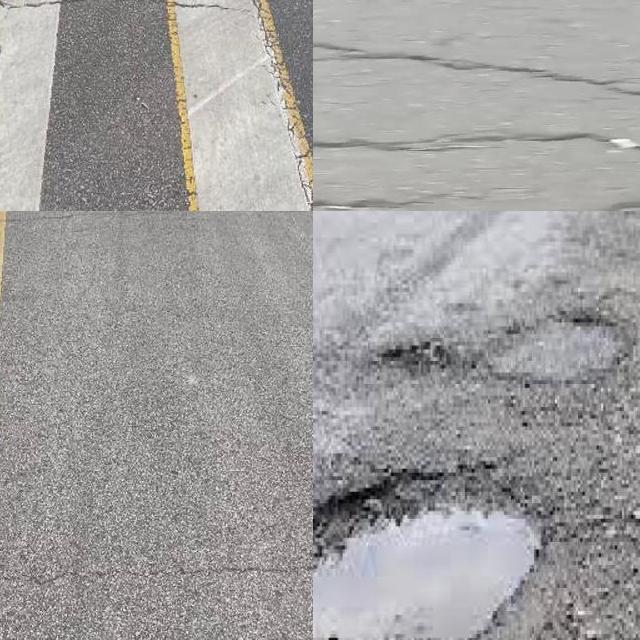Lubang: (313, 467, 548, 640), (478, 321, 629, 385)
Melintang: (313, 32, 640, 106), (0, 552, 313, 604), (313, 121, 640, 170), (0, 0, 254, 22)
